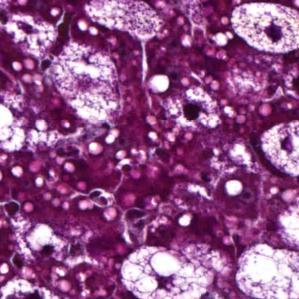ballooning: (119, 243, 217, 299), (228, 2, 299, 57), (257, 117, 299, 181)
